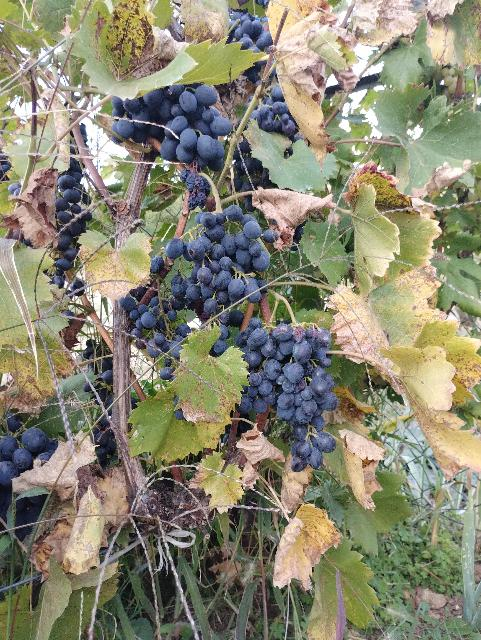grapes: (171, 205, 271, 356), (264, 326, 340, 472), (236, 318, 295, 414)
